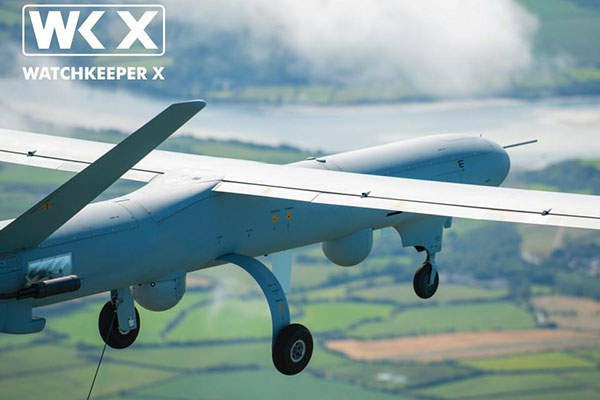maybay_khongnguoilai: (9, 109, 597, 357)
